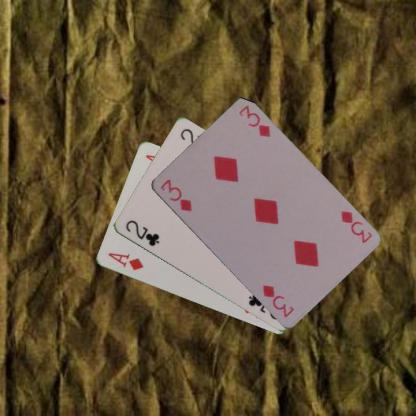2c: (123, 217, 160, 248)
3d: (157, 176, 194, 213), (338, 208, 374, 245)
Ad: (104, 250, 144, 272)
